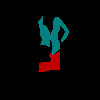giacca: (38, 16, 69, 56)
gonna: (38, 50, 60, 72)
